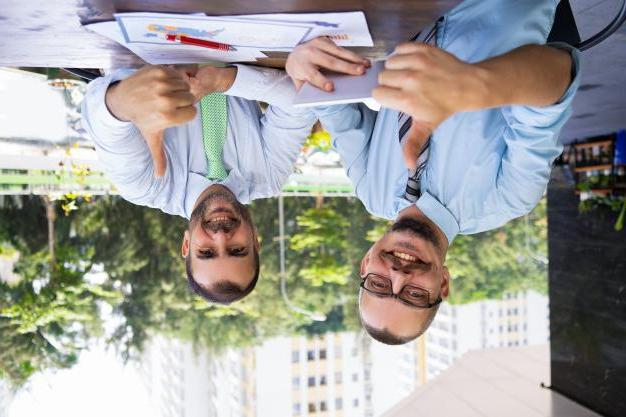thumbsdown: (372, 43, 443, 170), (145, 64, 198, 179)
